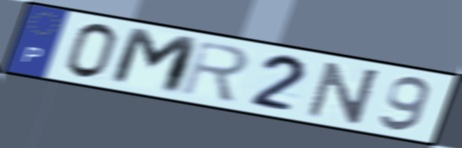0: (63, 22, 120, 79)
2: (244, 53, 311, 116)
9: (376, 74, 432, 132)
M: (106, 25, 203, 98)
N: (303, 59, 384, 126)
R: (178, 38, 252, 105)
